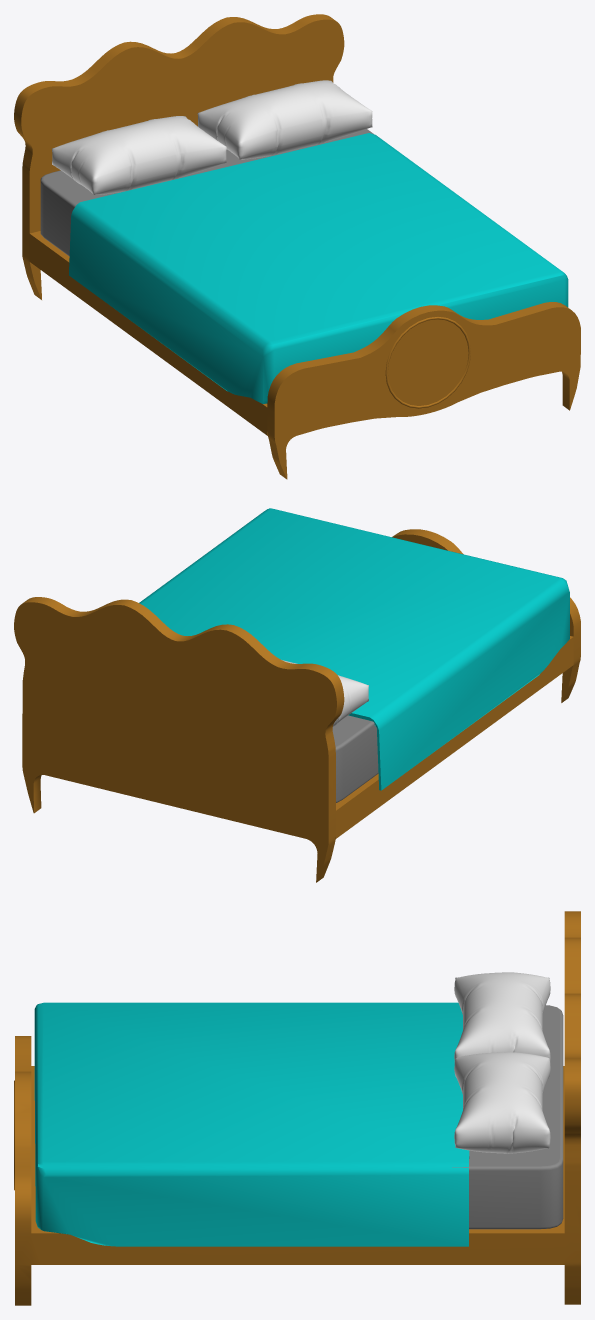
Rendered from homebed.fbx.
3 renders of one model, top to bottom at view 1: azimuth 30°, elevation 25°; view 2: azimuth 150°, elevation 25°; view 3: azimuth 270°, elevation 25°, orthographic. The views are drawn at different scales.
Visible parts, largest first — view 1: Sabana, Somier, Plane.001, Plane, Colchon; view 2: Somier, Sabana, Colchon, Plane.001; view 3: Sabana, Somier, Colchon, Plane, Plane.001.
Boxes of the visible parts, x1,y1,x2,y2 form: Sabana: [69, 133, 568, 403]; Somier: [14, 14, 580, 479]; Plane.001: [52, 116, 226, 194]; Plane: [197, 80, 372, 159]; Colchon: [40, 129, 375, 256]; Somier: [14, 529, 580, 882]; Sabana: [139, 508, 569, 790]; Colchon: [332, 715, 378, 802]; Plane.001: [282, 660, 368, 726]; Sabana: [34, 1002, 469, 1246]; Somier: [14, 911, 580, 1305]; Colchon: [452, 1005, 563, 1229]; Plane: [454, 1052, 550, 1153]; Plane.001: [454, 972, 550, 1061].
Size of the model in its own units: 219 by 149 by 297.
